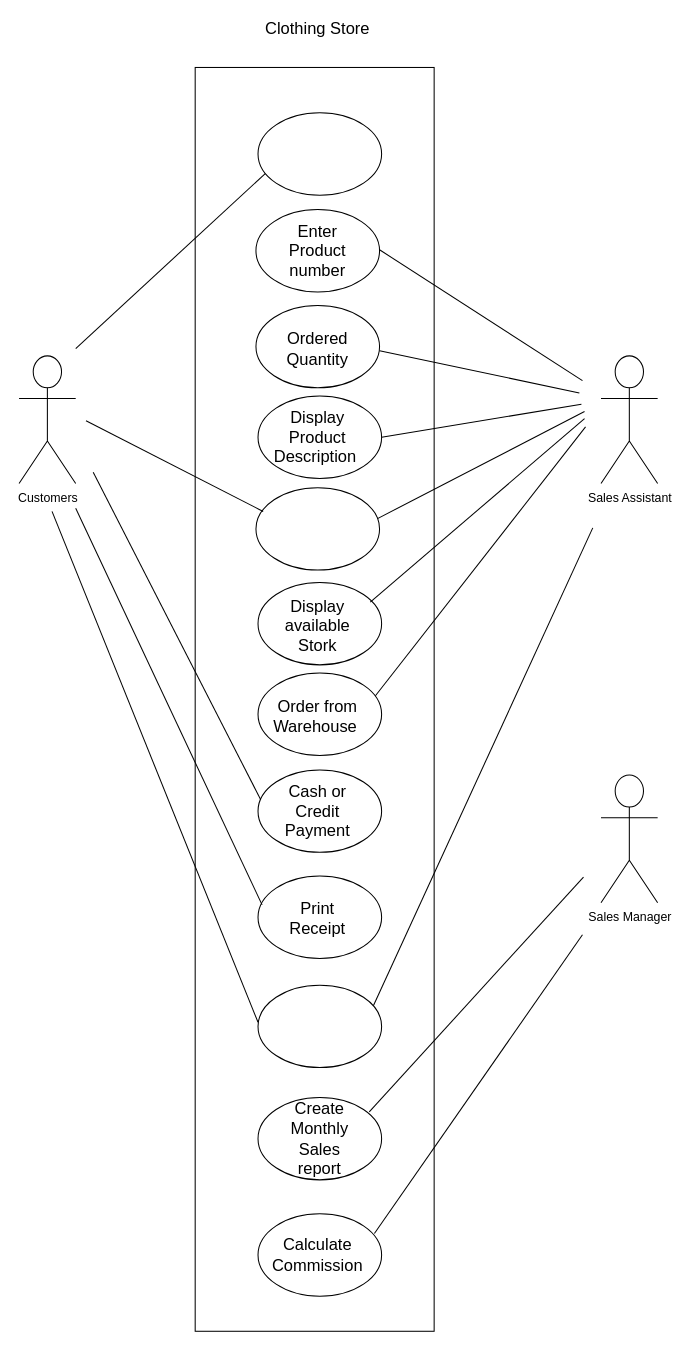
The diagram is 689 pixels wide and 1349 high, and some of its shapes have lost their labels. The centre of each missing label's shape, as x and y in pixels:
"Buy Product" belongs at [319,153].
"Display Price" belongs at [317,528].
"Return for refund" belongs at [319,1026].
